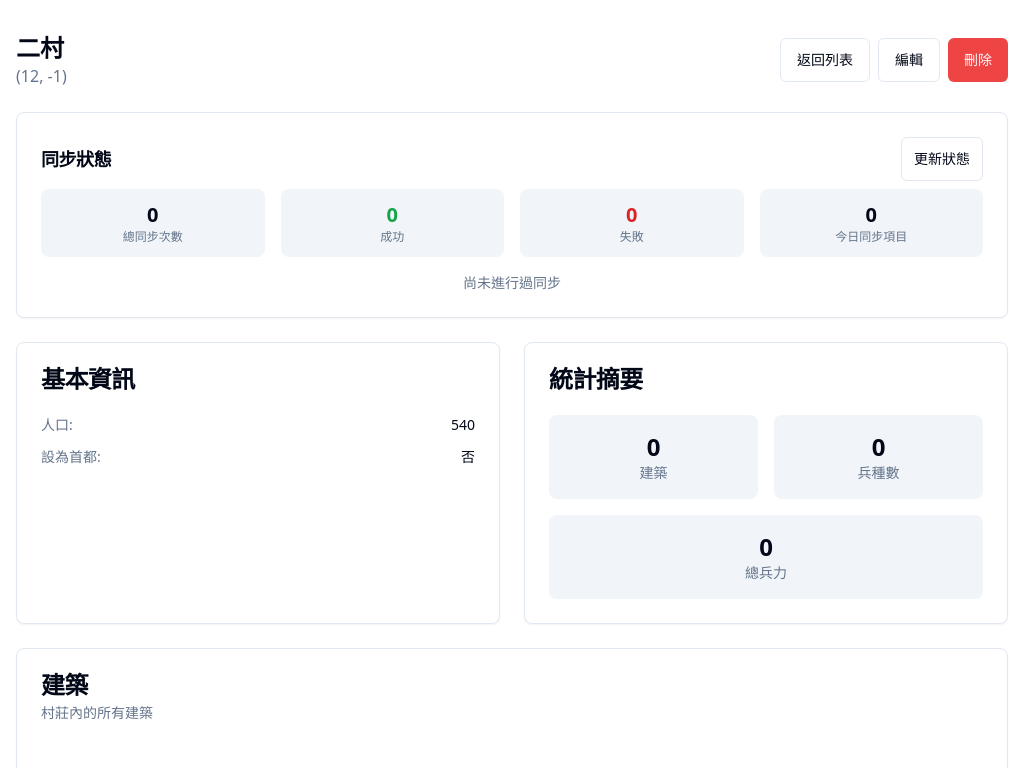
Test: village detail: edit and delete moved here from the list › opens the edit form with the village filled in
Step 1. Click the button "編輯" → (909, 60), box [878,38,940,82]
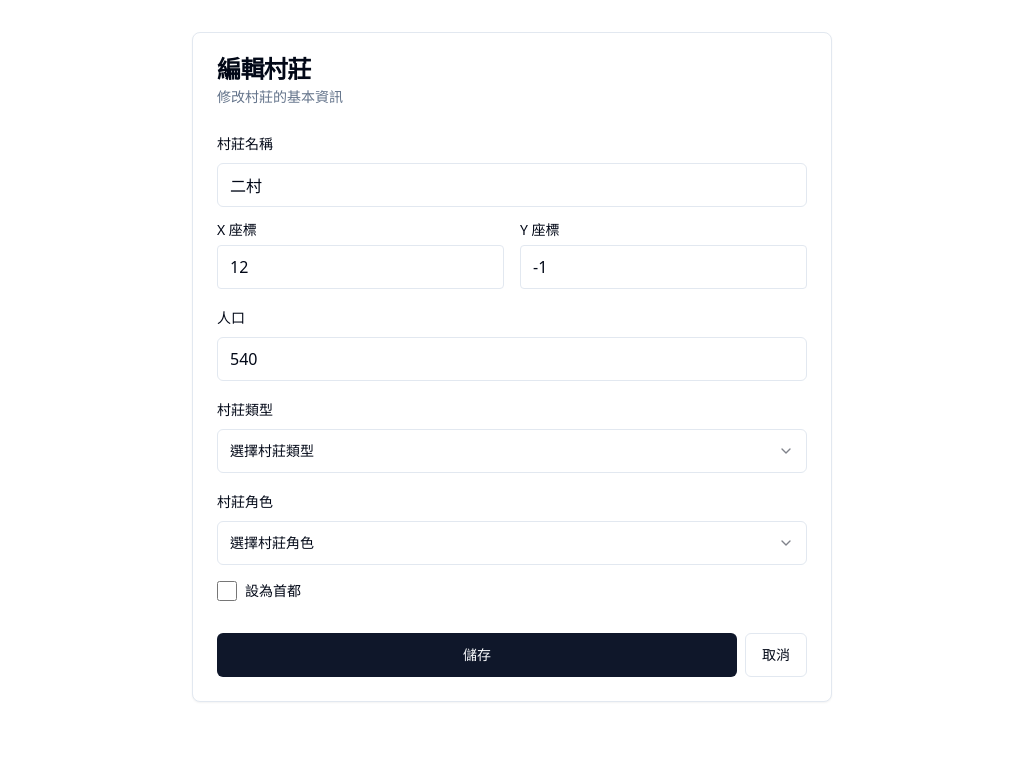
Expected: the field showing "二村" is shown, [217,163,807,207]
